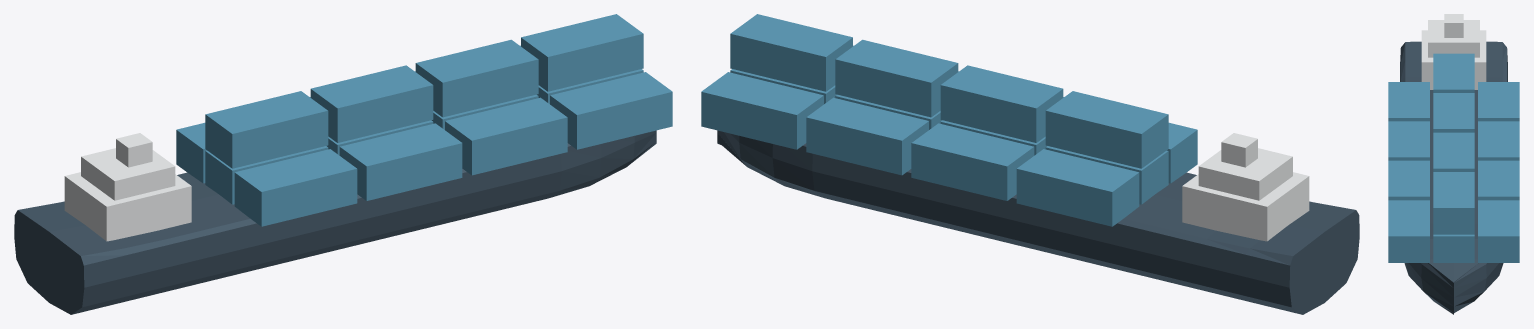
Rendered from cargo-ship.glb.
3 renders of one model, left to right at view 1: azimuth 30°, elevation 25°; view 2: azimuth 150°, elevation 25°; view 3: azimuth 270°, elevation 25°, orthographic. The views are drawn at different scales.
Visible parts, largest first — view 1: ship_stacks, ship_hull, ship_bridge; view 2: ship_stacks, ship_hull, ship_bridge; view 3: ship_stacks, ship_hull, ship_bridge.
Boxes of the visible parts, x1=… form: ship_stacks: x1=176, y1=14, x2=672, y2=226; ship_hull: x1=14, y1=130, x2=656, y2=314; ship_bridge: x1=64, y1=133, x2=191, y2=241; ship_stacks: x1=701, y1=14, x2=1197, y2=226; ship_hull: x1=717, y1=130, x2=1359, y2=314; ship_bridge: x1=1182, y1=133, x2=1309, y2=241; ship_stacks: x1=1388, y1=53, x2=1519, y2=262; ship_hull: x1=1400, y1=41, x2=1507, y2=314; ship_bridge: x1=1421, y1=14, x2=1486, y2=89.
Size of the model in its own units: 26 by 5.8 by 6.32.
